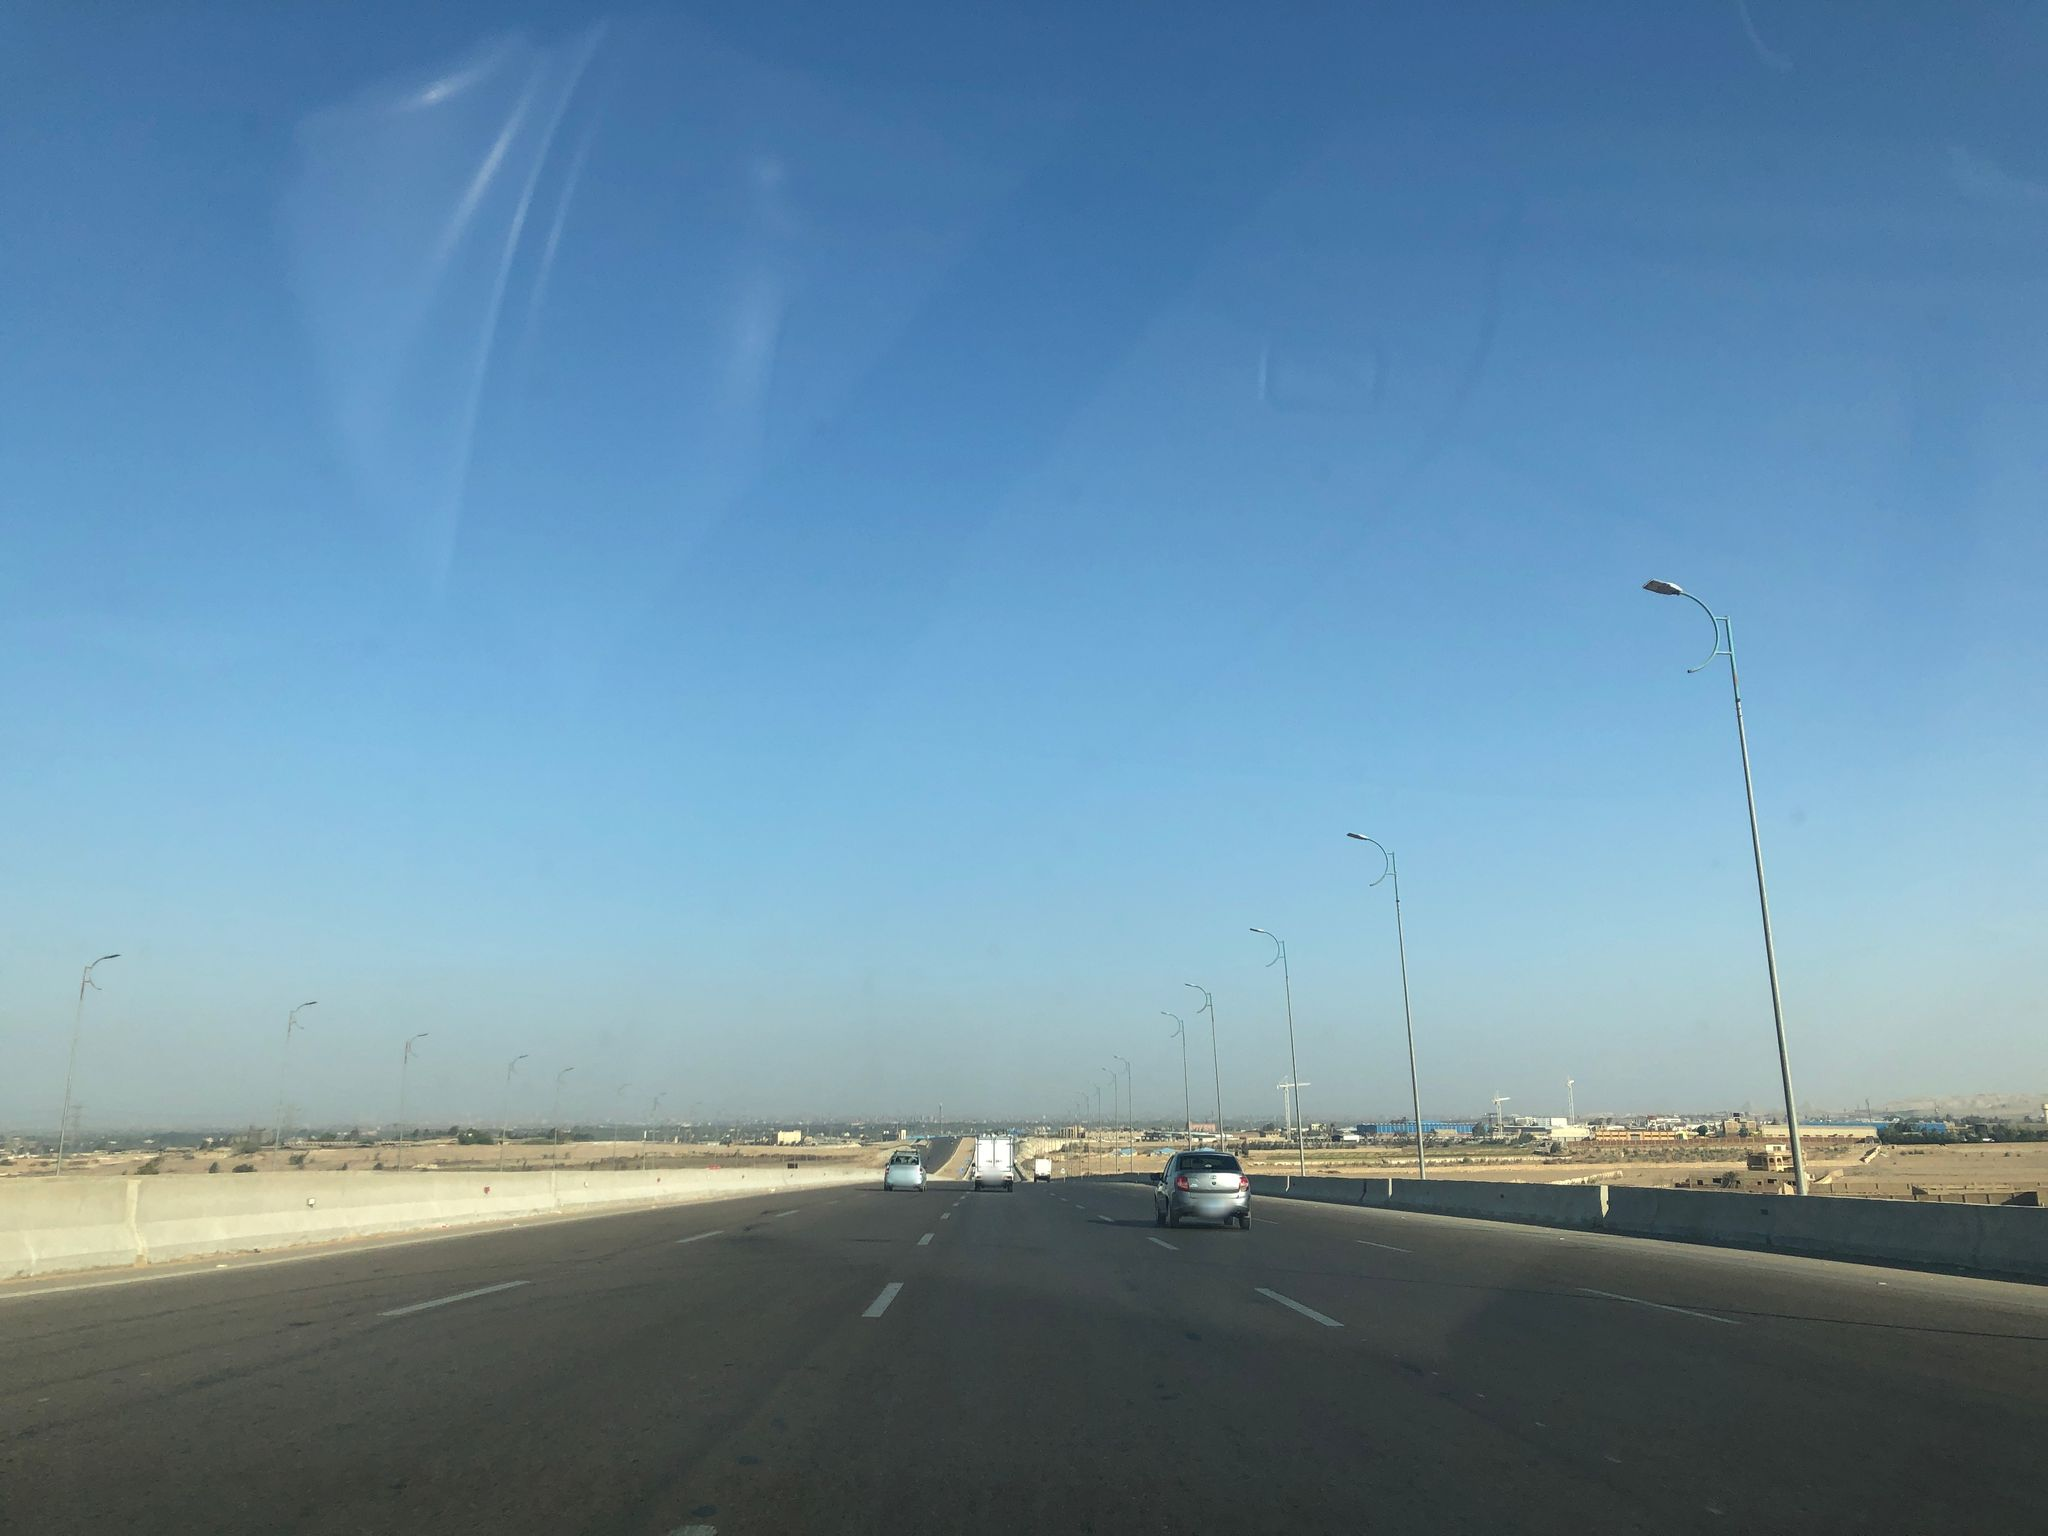car: (1150, 1150, 1251, 1229), (882, 1149, 927, 1192)
truck: (971, 1136, 1016, 1192), (1034, 1158, 1051, 1183)
